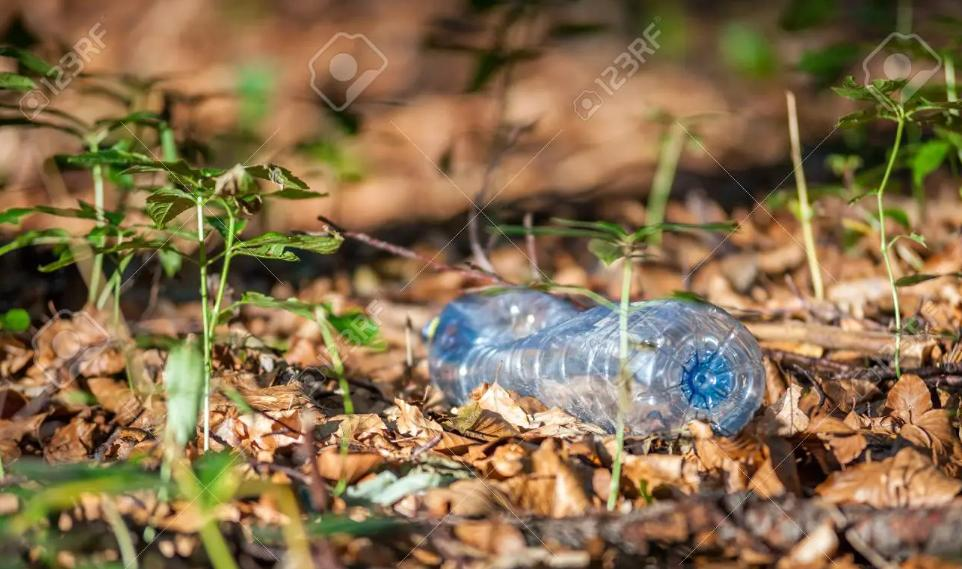bottle: (409, 262, 790, 473)
